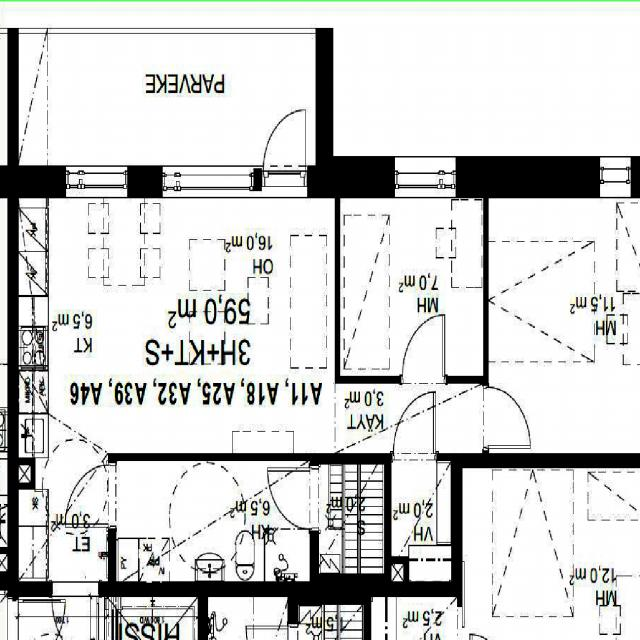door: (264, 105, 305, 198), (268, 468, 319, 528), (65, 465, 115, 526), (402, 314, 445, 384), (483, 386, 531, 448), (394, 392, 435, 461), (52, 582, 99, 640)
